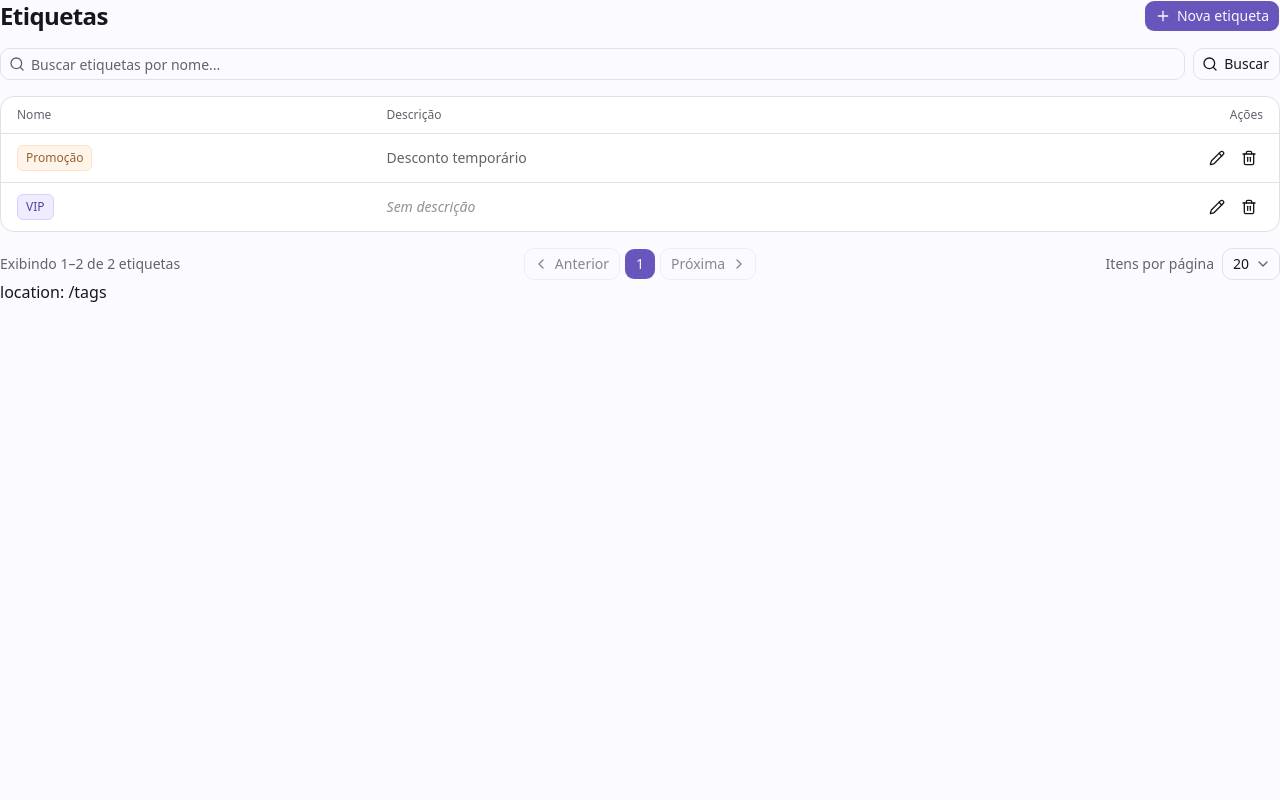
Scenario: TagFormPage › edit mode (/tags/:id/edit) › saves the change, refreshes the list and returns to /tags on success (spec US3 scenario 1)
This screenshot has width=1280, height=800.
Check: the text "Promoção" is shown, box [17, 145, 92, 171]
Click the link named "Editar Promoção" at (1217, 158), box [1209, 150, 1225, 166]
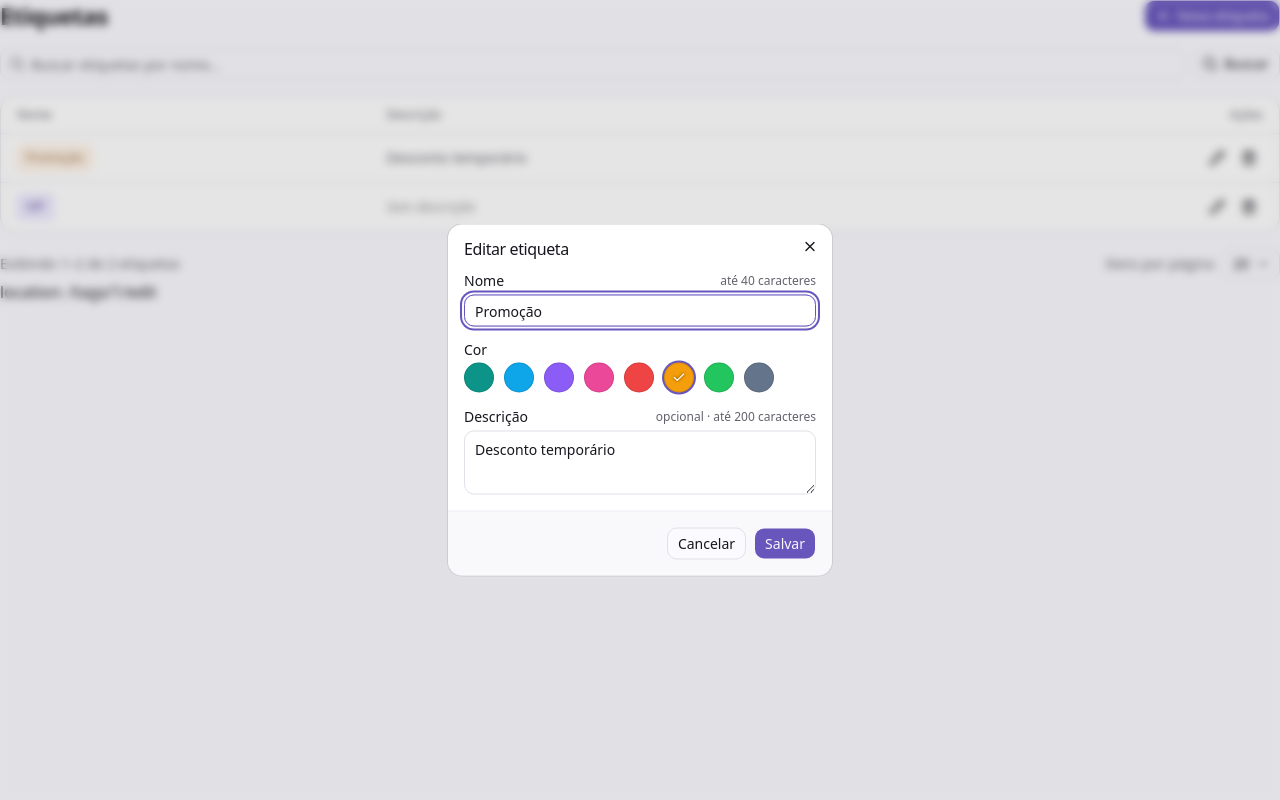
Check: the heading "Editar etiqueta" is shown, box [464, 238, 569, 260]
Replace the text in the field labelled "Nome" with "Promo relâmpago" at (640, 310), box [464, 294, 816, 326]
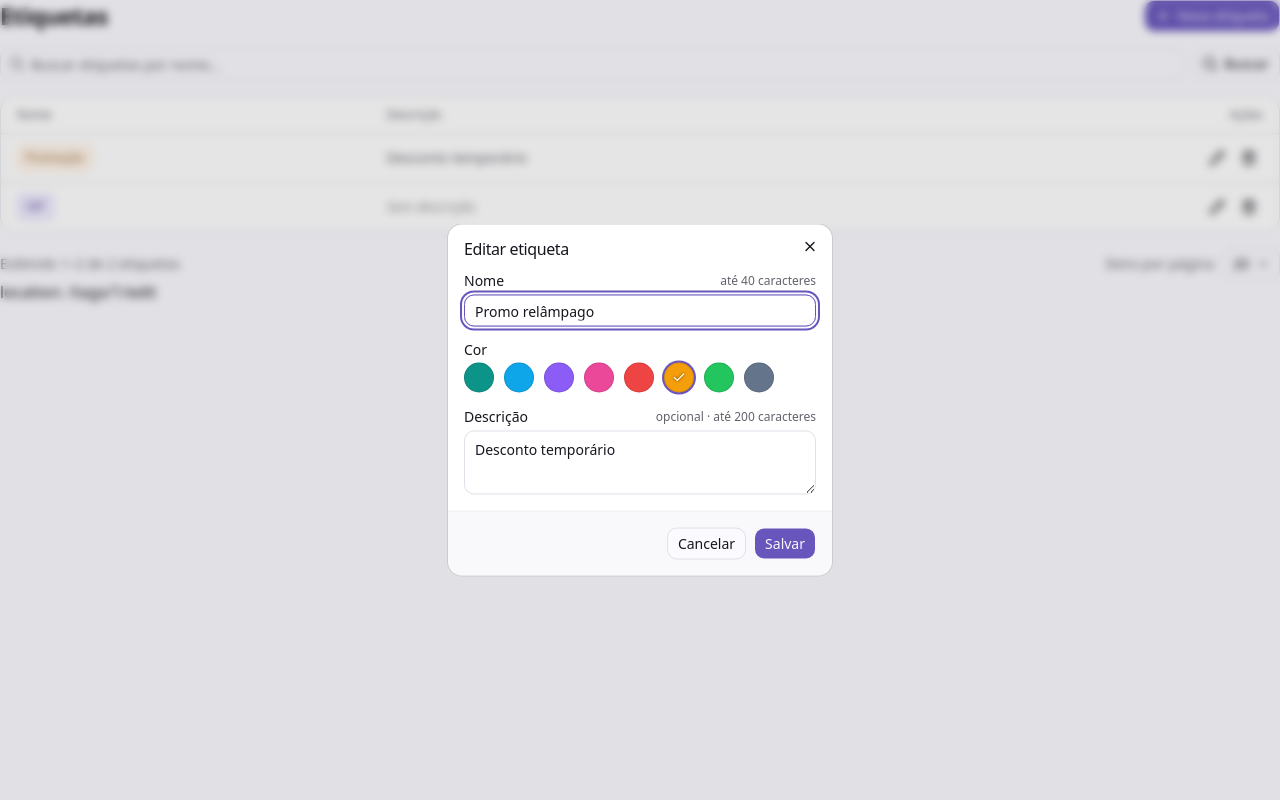
Click the button "Salvar" at (785, 544), box [754, 528, 816, 560]
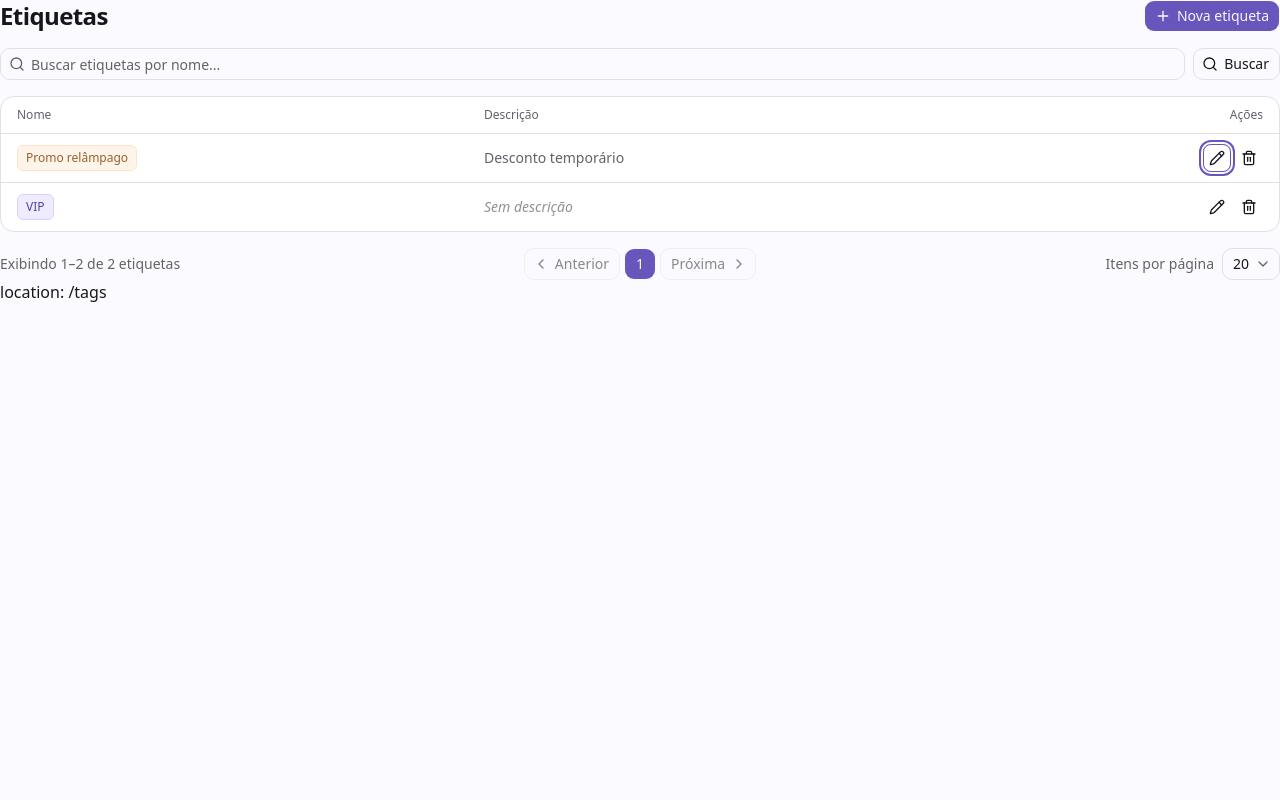
Check: the text with test id "location" reads "location: /tags", box [0, 281, 107, 303]
Check: the text "Promo relâmpago" is shown, box [17, 145, 137, 171]
